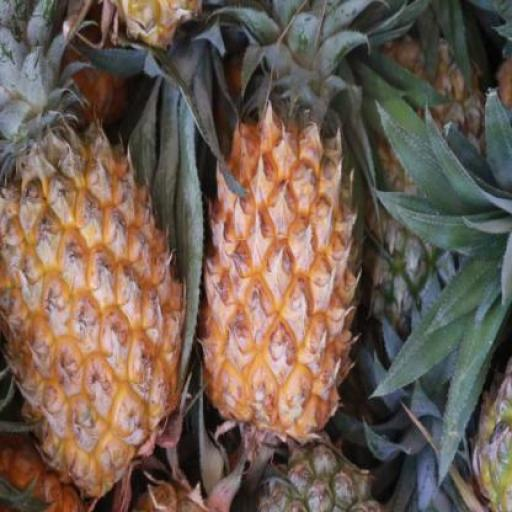Pineapple - v8 v1: (0, 124, 182, 506), (200, 110, 356, 452)
